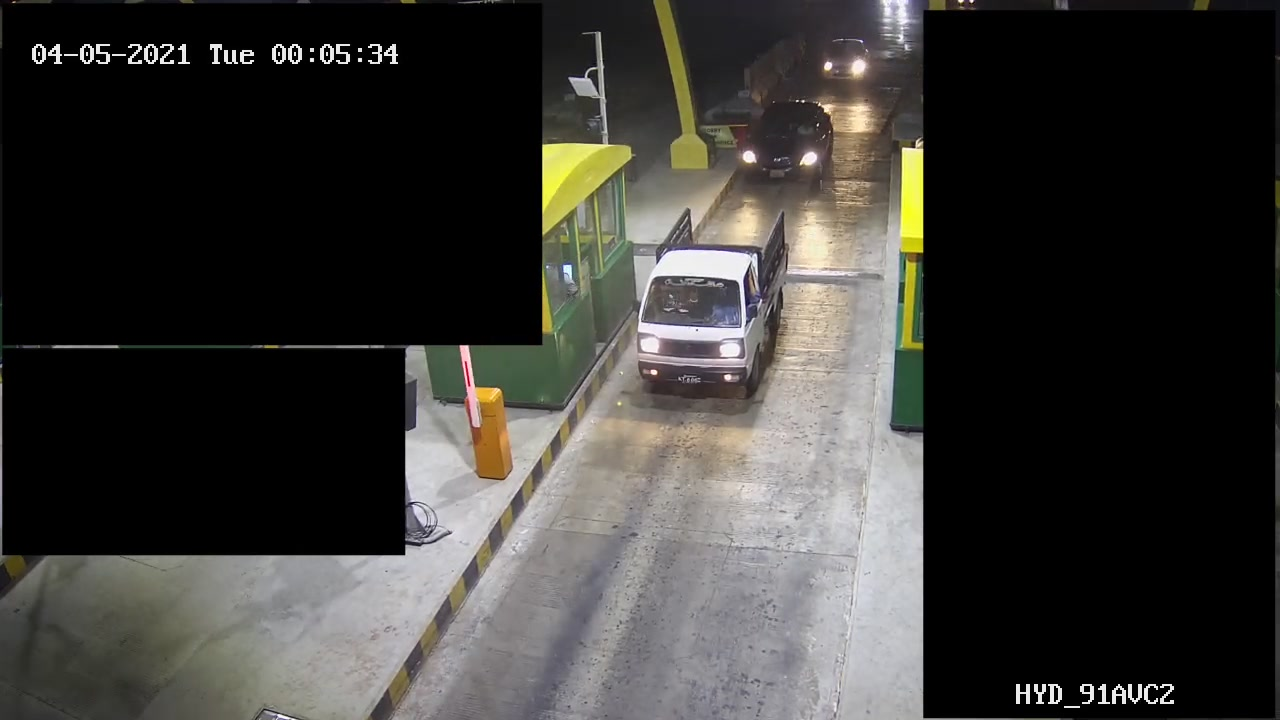F1: (635, 202, 799, 407), (735, 98, 840, 196)
